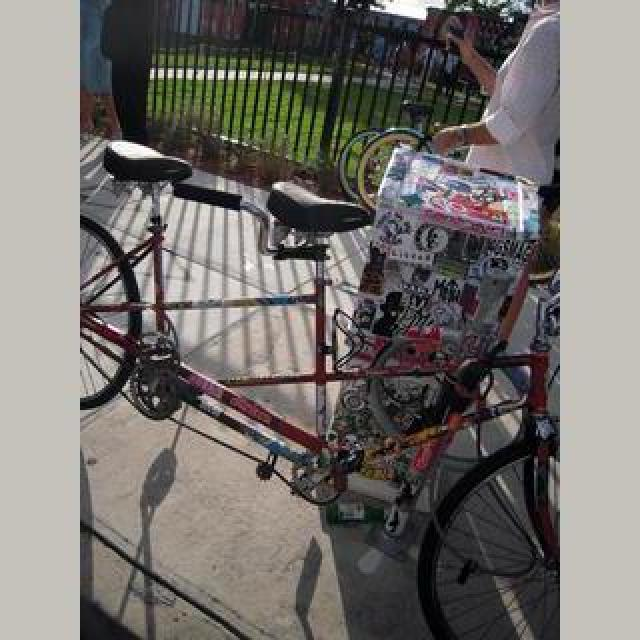MC-Bike: (102, 0, 160, 144)
Person: (80, 126, 560, 620)
